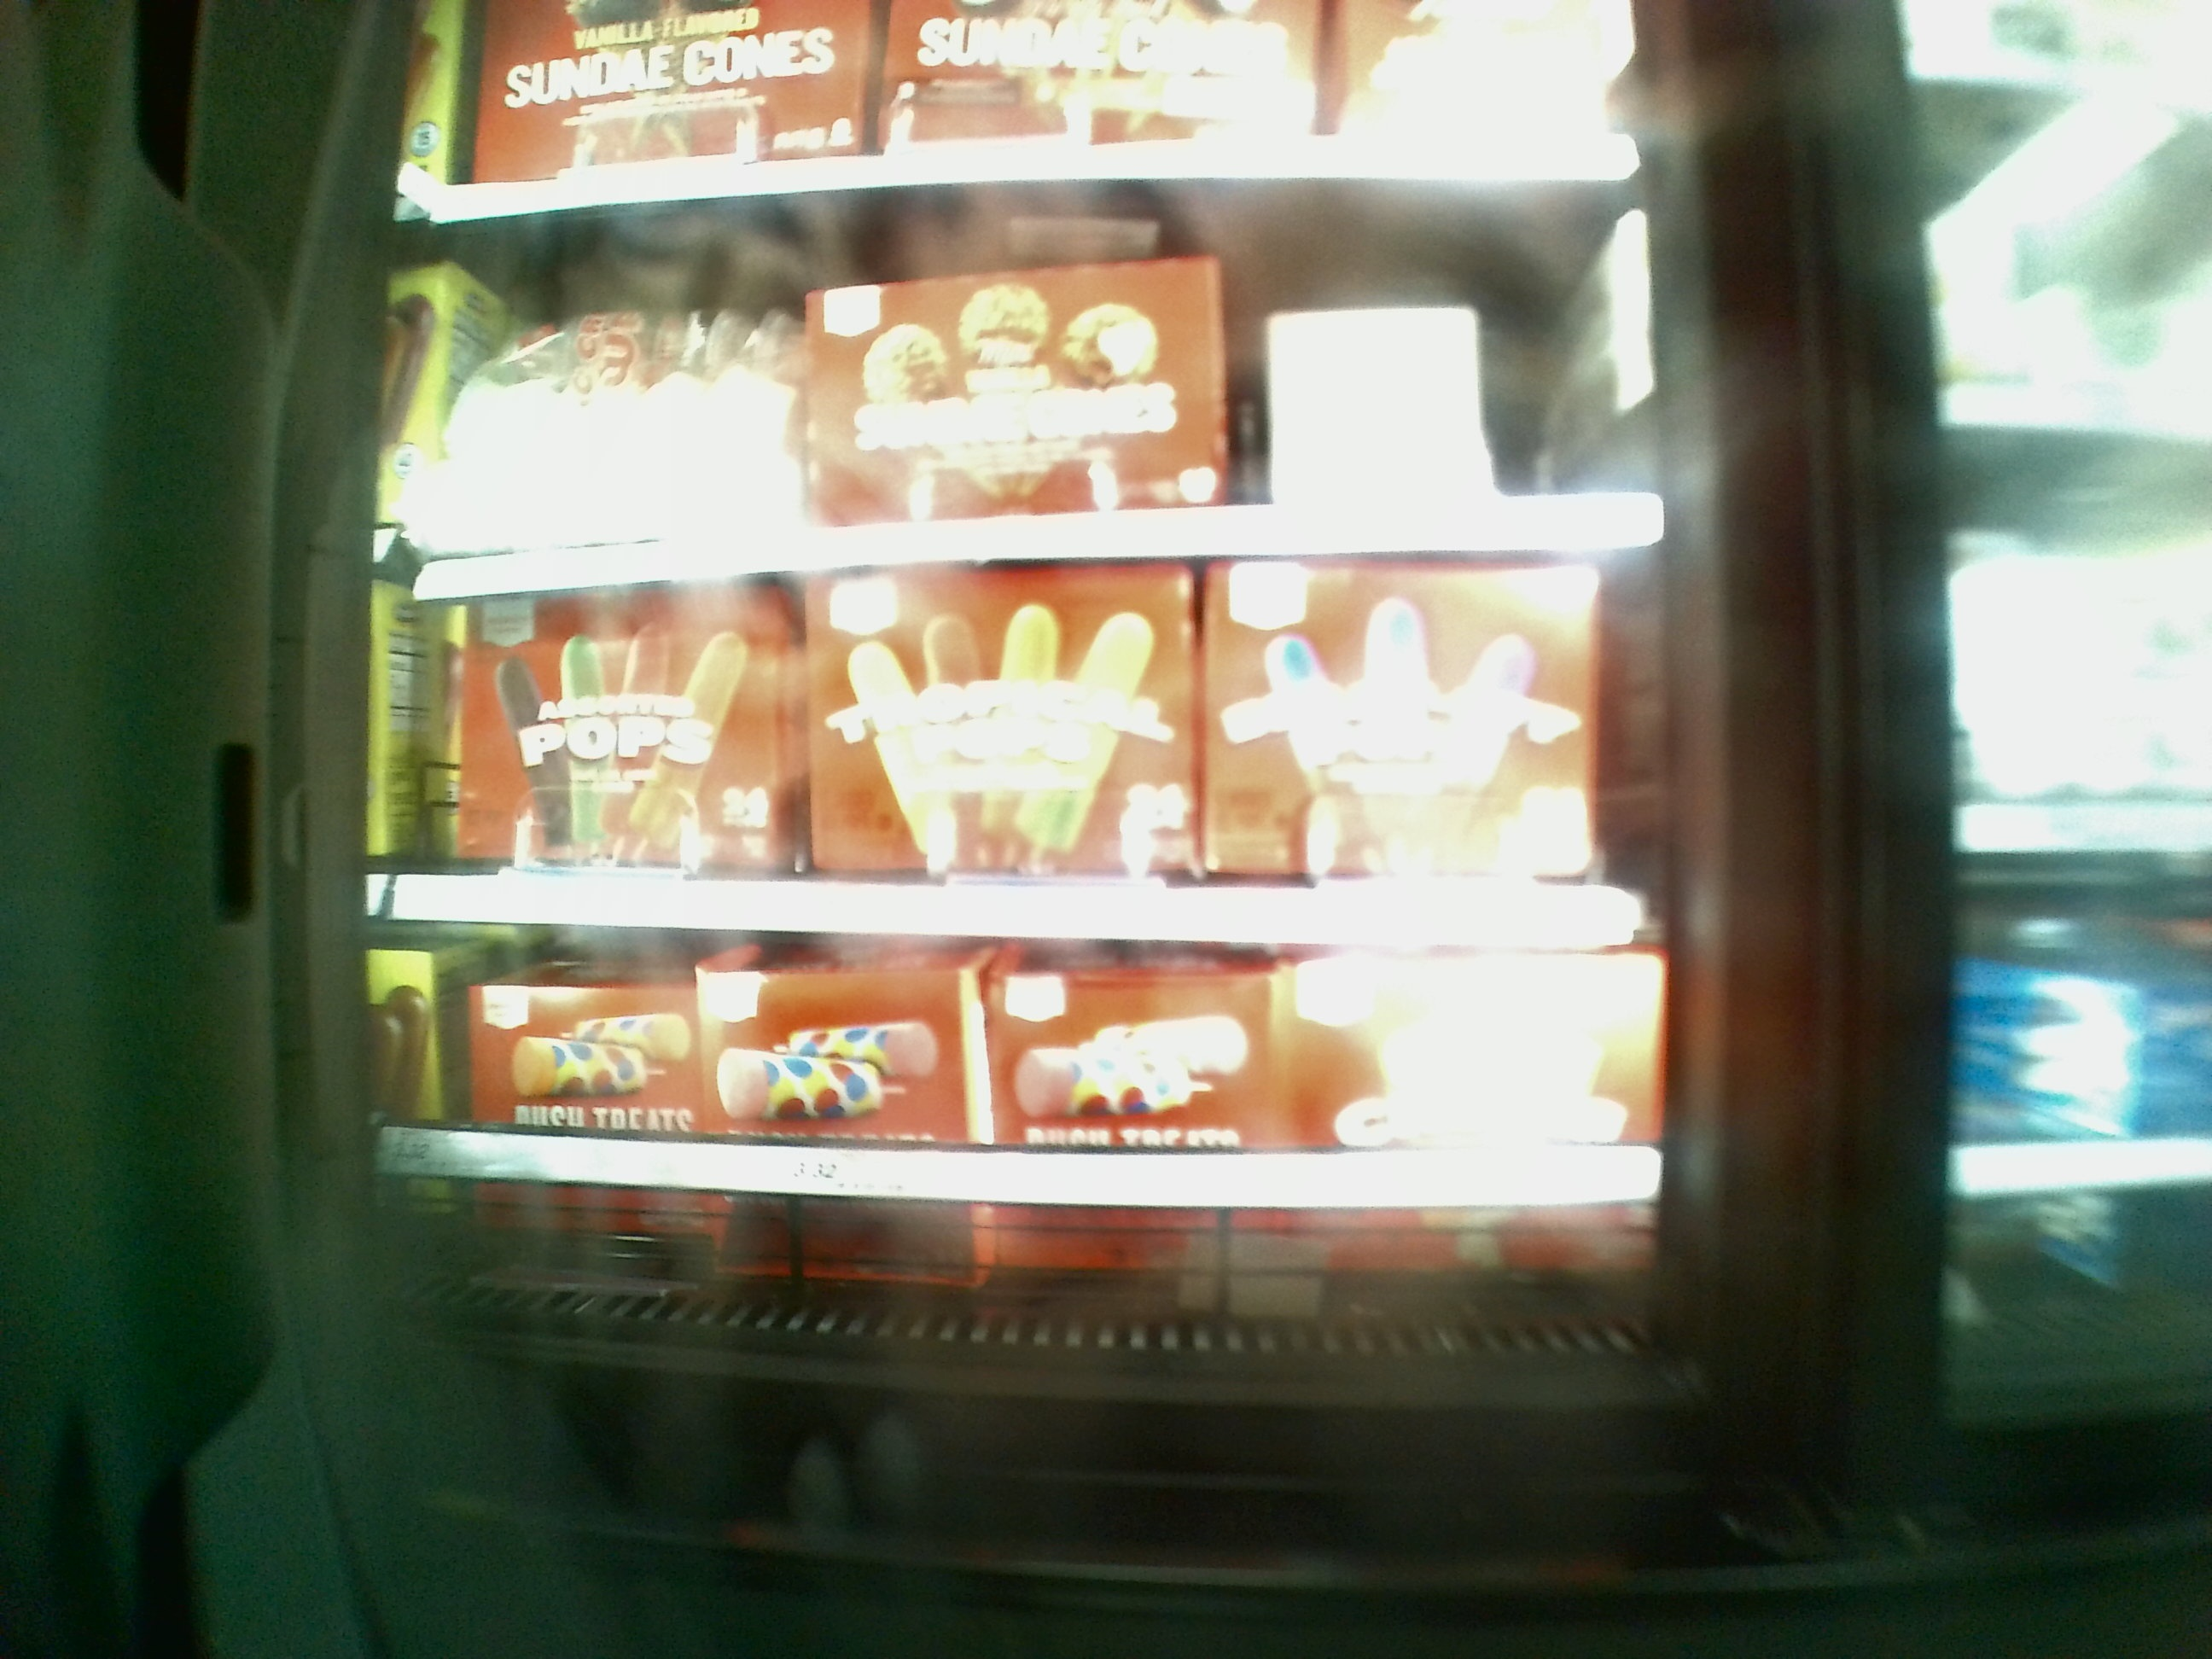shelf: (448, 931, 1662, 1335), (425, 572, 1658, 934), (421, 218, 1625, 559)
